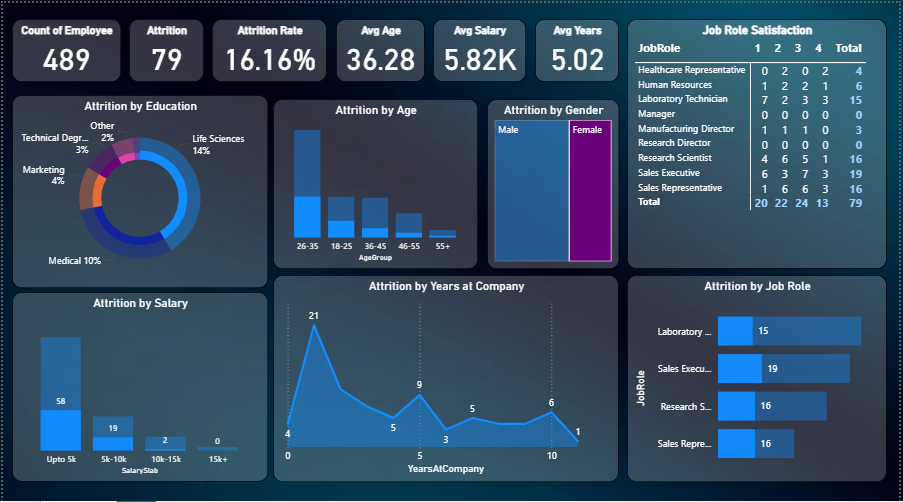

The page's visual inventory and layout, read from the dashboard file:
{"tool":"powerbi","page":{"name":"Page 1","canvas":[1280,720],"ordinal":0},"visuals":[{"type":"card","title":"Count of Employee","fields":{"Values":["CountNonNull(HR_Analytics.EmpID)"]},"box":[12.9,22.9,155.7,90],"z":0},{"type":"card","title":"Attrition","fields":{"Values":["Sum(HR_Analytics.AttritionCount)"]},"box":[180,22.9,107.1,90],"z":1000},{"type":"card","title":"Attrition Rate","fields":{"Values":["HR_Analytics.AttritionRate"]},"box":[298.6,22.9,164.3,90],"z":2000},{"type":"card","title":"Avg Age","fields":{"Values":["Avg(HR_Analytics.Age)"]},"box":[475.7,22.9,127.1,90],"z":3000},{"type":"card","title":"Avg Salary","fields":{"Values":["Avg(HR_Analytics.MonthlyIncome)"]},"box":[614.3,22.9,132.9,90],"z":4000},{"type":"card","title":"Avg Years","fields":{"Values":["Avg(HR_Analytics.YearsAtCompany)"]},"box":[760,22.9,120,90],"z":5000},{"type":"donutChart","title":"Attrition by Education","fields":{"Category":["HR_Analytics.EducationField"],"Y":["Sum(HR_Analytics.Education)"]},"box":[12.9,131.4,365.7,275.7],"z":6000},{"type":"columnChart","title":"Attrition by Age","fields":{"Category":["HR_Analytics.AgeGroup"],"Y":["Sum(HR_Analytics.AttritionCount)"]},"box":[388.8,131,292.3,275],"z":7000},{"type":"pivotTable","title":"Job Role Satisfaction","fields":{"Rows":["HR_Analytics.JobRole"],"Columns":["HR_Analytics.JobSatisfaction"],"Values":["Sum(HR_Analytics.AttritionCount)"]},"box":[891.4,22.9,371.4,357.1],"z":8000},{"type":"columnChart","title":"Attrition by Salary","fields":{"Category":["HR_Analytics.SalarySlab"],"Y":["Sum(HR_Analytics.AttritionCount)"]},"box":[13,413.3,365.8,288],"z":9000},{"type":"barChart","title":"Attrition by Job Role","fields":{"Category":["HR_Analytics.JobRole"],"Y":["Sum(HR_Analytics.AttritionCount)"]},"box":[891.4,388.8,371.5,312.5],"z":10000},{"type":"areaChart","title":"Attrition by Years at Company","fields":{"Category":["HR_Analytics.YearsAtCompany"],"Y":["Sum(HR_Analytics.AttritionCount)"]},"box":[385.9,413.3,493.9,288],"z":11000},{"type":"treemap","title":"Attrition by Gender","fields":{"Group":["HR_Analytics.Gender"],"Values":["Sum(HR_Analytics.AttritionCount)"]},"box":[691.2,131,188.6,275],"z":12000}]}

Visuals, with their boxes in screenshot pixels (x1, y1, x2, y2), scaled from the page's 1280x720 canvas onto the 903x502 screenshot:
"Count of Employee" card: Rect(9, 16, 119, 79)
"Attrition" card: Rect(127, 16, 203, 79)
"Attrition Rate" card: Rect(211, 16, 327, 79)
"Avg Age" card: Rect(336, 16, 425, 79)
"Avg Salary" card: Rect(433, 16, 527, 79)
"Avg Years" card: Rect(536, 16, 621, 79)
"Attrition by Education" donutChart: Rect(9, 92, 267, 284)
"Attrition by Age" columnChart: Rect(274, 91, 480, 283)
"Job Role Satisfaction" pivotTable: Rect(629, 16, 891, 265)
"Attrition by Salary" columnChart: Rect(9, 288, 267, 489)
"Attrition by Job Role" barChart: Rect(629, 271, 891, 489)
"Attrition by Years at Company" areaChart: Rect(272, 288, 621, 489)
"Attrition by Gender" treemap: Rect(488, 91, 621, 283)
